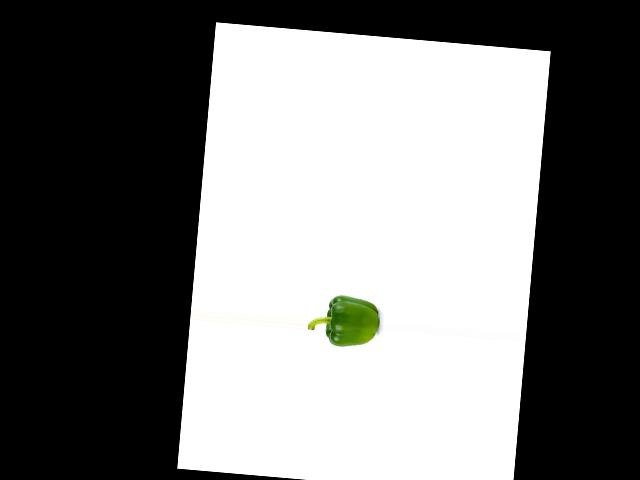bell_pepper: (308, 284, 382, 350)
